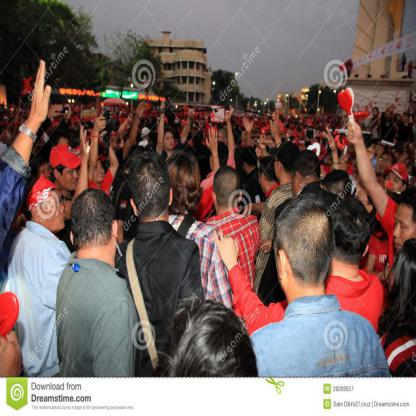face: (394, 207, 416, 259), (43, 191, 66, 229), (385, 172, 402, 202), (62, 163, 78, 191), (38, 164, 52, 189), (380, 153, 394, 173), (359, 192, 371, 215), (92, 161, 105, 182), (275, 157, 285, 180), (260, 171, 271, 191), (109, 134, 119, 155), (164, 133, 175, 149), (37, 133, 45, 148), (64, 105, 72, 120), (83, 136, 90, 148), (341, 154, 349, 164), (375, 142, 381, 152), (88, 127, 94, 137), (125, 124, 131, 134), (373, 108, 379, 117), (242, 132, 248, 141), (224, 125, 229, 135), (219, 134, 224, 143), (386, 113, 391, 120), (404, 115, 409, 122), (102, 109, 107, 115), (209, 123, 213, 129), (367, 128, 370, 134), (181, 122, 184, 127), (203, 133, 206, 138)
